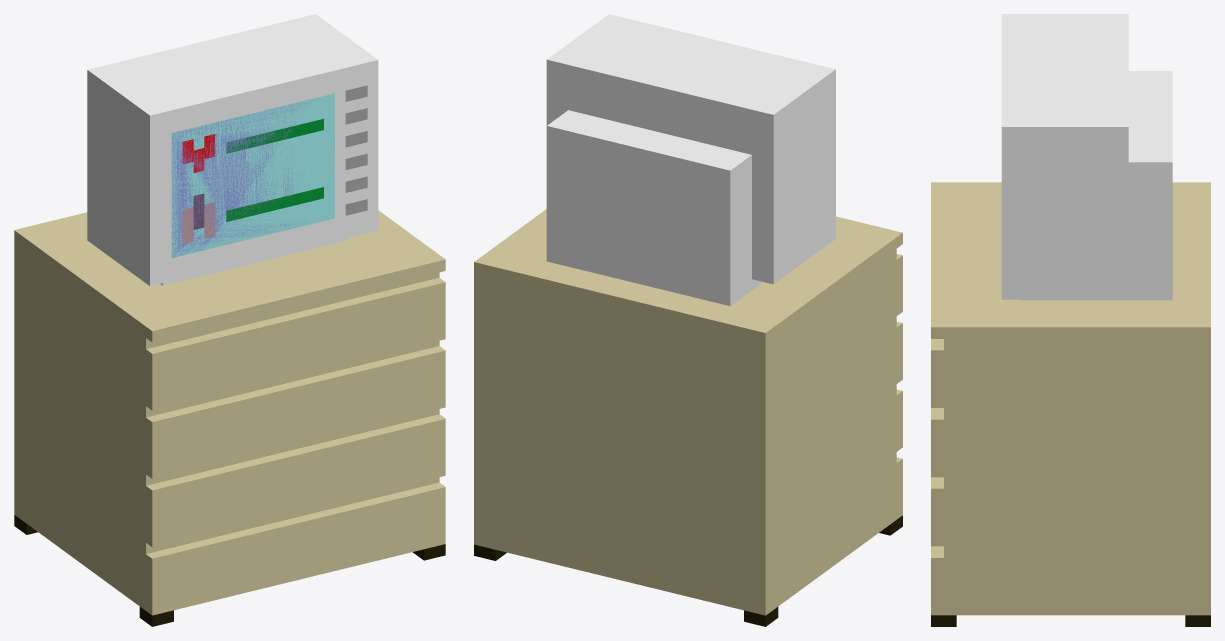
File: Operating room Equip2-1.fbx
The picture shows the model from 3 angles, left to right: view 1: azimuth 30°, elevation 25°; view 2: azimuth 150°, elevation 25°; view 3: azimuth 270°, elevation 25°; orthographic projection.
Parts seen in each view (by area): view 1: Operating room Equip2-1.001, Operating room Equip2-1.002, Operating room Equip2-1.004, Operating room Equip2-1.006; view 2: Operating room Equip2-1.001, Operating room Equip2-1.002; view 3: Operating room Equip2-1.001, Operating room Equip2-1.002.
Part boxes in pixels (box(x1,y1,x2,y2)): Operating room Equip2-1.001: box(14, 210, 445, 626); Operating room Equip2-1.002: box(87, 14, 378, 286); Operating room Equip2-1.004: box(171, 93, 334, 257); Operating room Equip2-1.006: box(171, 99, 332, 257); Operating room Equip2-1.001: box(474, 110, 902, 626); Operating room Equip2-1.002: box(546, 14, 835, 284); Operating room Equip2-1.001: box(931, 71, 1210, 626); Operating room Equip2-1.002: box(1001, 14, 1128, 299).
Size of the model in its own units: 2.7 by 4.2 by 2.2.
